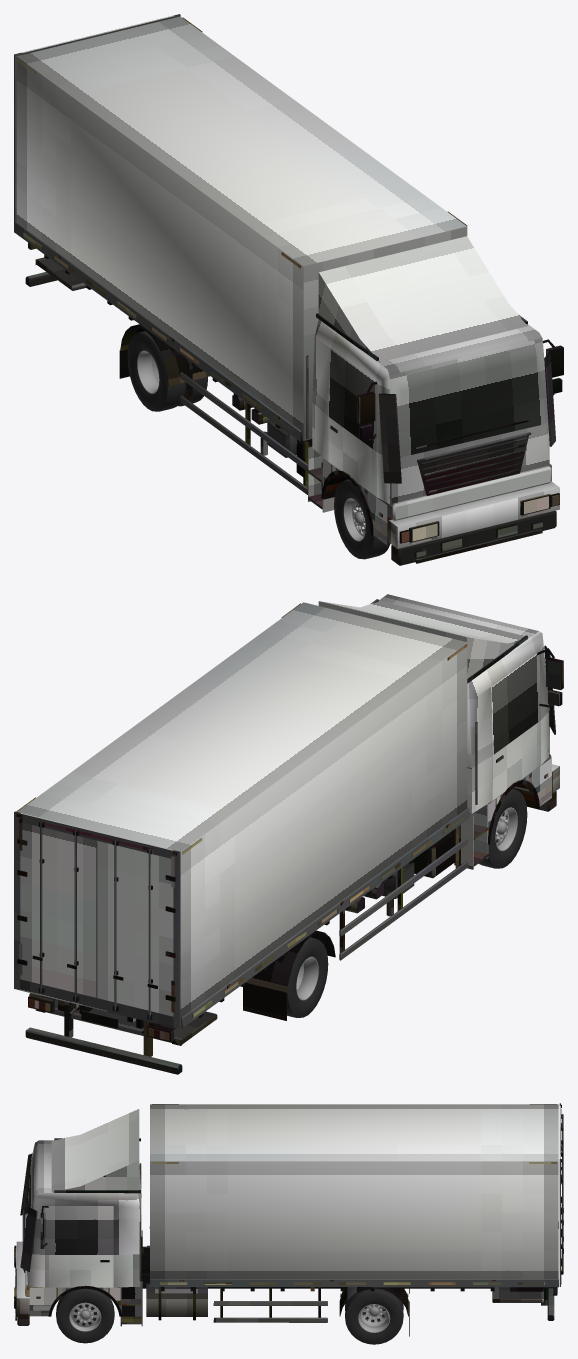
The model's file is verteiler_m.glb.
3 views of the same model, one above another, from view 1: azimuth 30°, elevation 25°; view 2: azimuth 150°, elevation 25°; view 3: azimuth 270°, elevation 25° (orthographic). The views are drawn at different scales.
Parts seen in each view (by area): view 1: koerper, rad_hr_gummi, rad_vr_gummi, rad_hr_metall, rad_vr_metall; view 2: koerper, rad_hr_gummi, rad_vr_gummi, rad_hr_metall, rad_vr_metall; view 3: koerper, rad_vl_gummi, rad_hl_gummi, rad_hl_metall, rad_vl_metall.
Part boxes in pixels (bbox=[...]): koerper: bbox=[14, 14, 563, 565]; rad_hr_gummi: bbox=[127, 331, 185, 411]; rad_vr_gummi: bbox=[334, 479, 390, 559]; rad_hr_metall: bbox=[137, 350, 159, 393]; rad_vr_metall: bbox=[343, 498, 365, 541]; koerper: bbox=[14, 594, 563, 1074]; rad_hr_gummi: bbox=[287, 937, 328, 1017]; rad_vr_gummi: bbox=[478, 788, 527, 868]; rad_hr_metall: bbox=[296, 956, 318, 1000]; rad_vr_metall: bbox=[495, 807, 517, 850]; koerper: bbox=[14, 1103, 563, 1336]; rad_vl_gummi: bbox=[56, 1288, 114, 1343]; rad_hl_gummi: bbox=[345, 1289, 403, 1344]; rad_hl_metall: bbox=[358, 1304, 390, 1332]; rad_vl_metall: bbox=[69, 1302, 101, 1331].
Bounding box in the file's own units: 3.07 × 3.75 × 10.09.
Materials: 3 (1 with a texture image).
